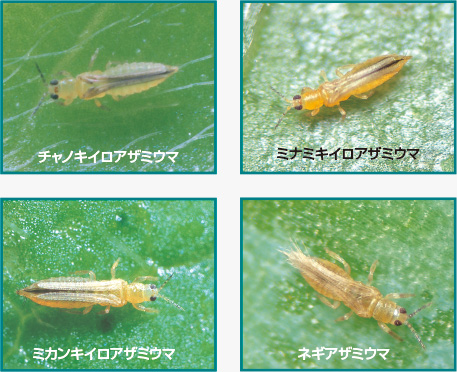Thrips: (264, 232, 433, 346), (19, 40, 190, 127), (273, 35, 421, 132), (22, 250, 187, 323)
